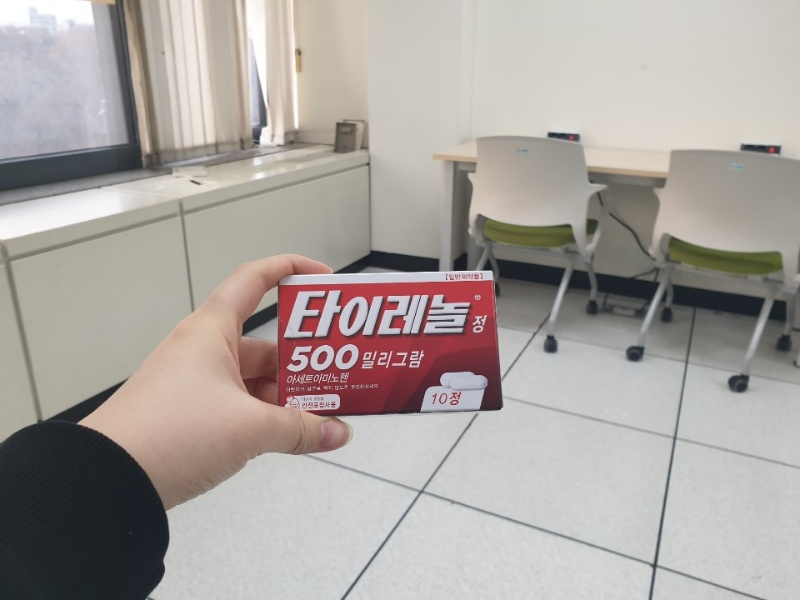tylenol: (278, 271, 507, 409)
